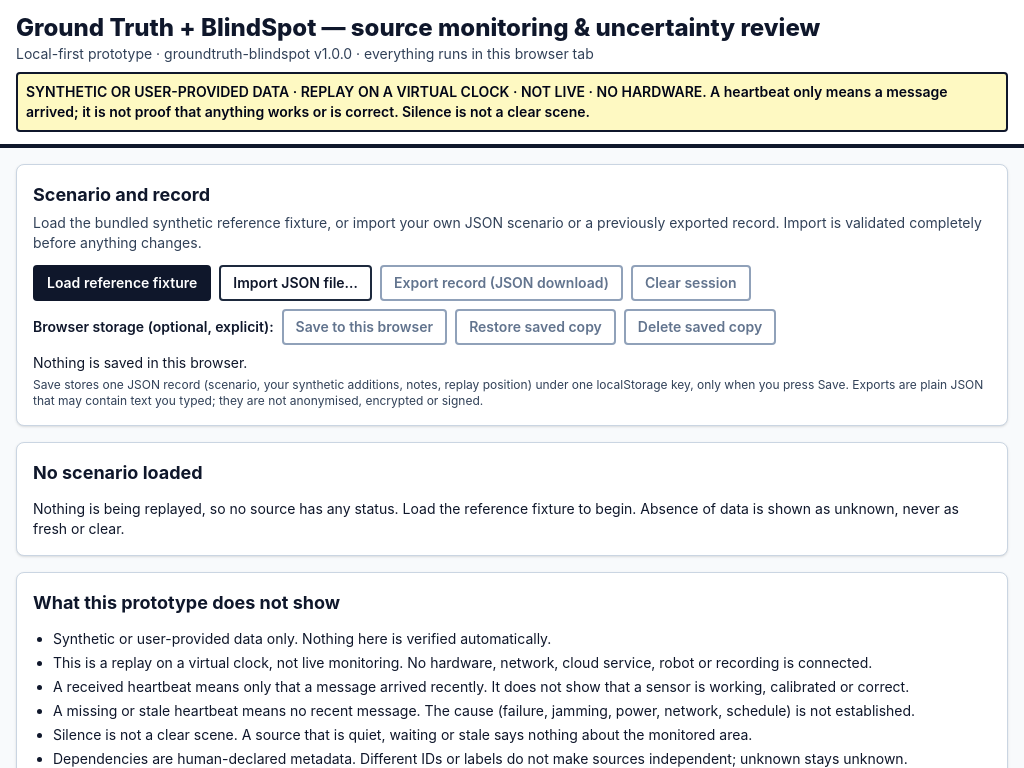
Test: workbench mounts and replays the reference fixture › exposes the optional adapter section once a scenario is loaded
This screenshot has width=1024, height=768.
What coordinates should you click on to do the following:
click the button with test id "btn-load-ref"
I would click on:
 (122, 283)
Its box is [33,265,211,301].
(page scrolled)
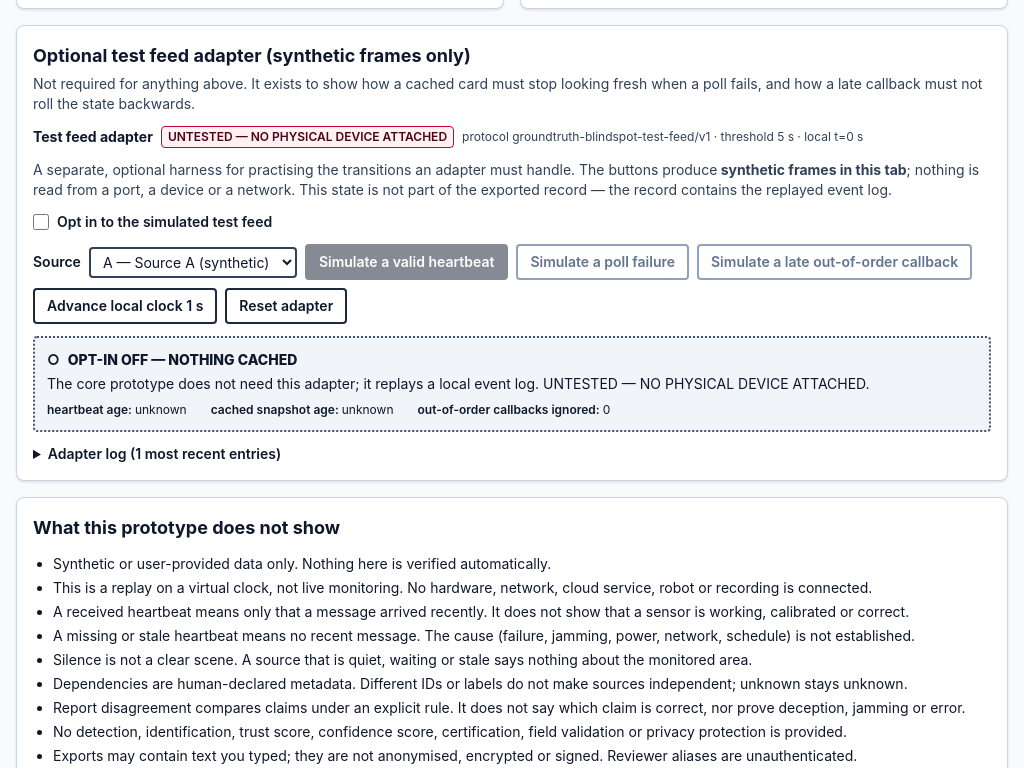
Check: the checkbox with test id "adapter-optin" is shown, box [33,214,49,230]
